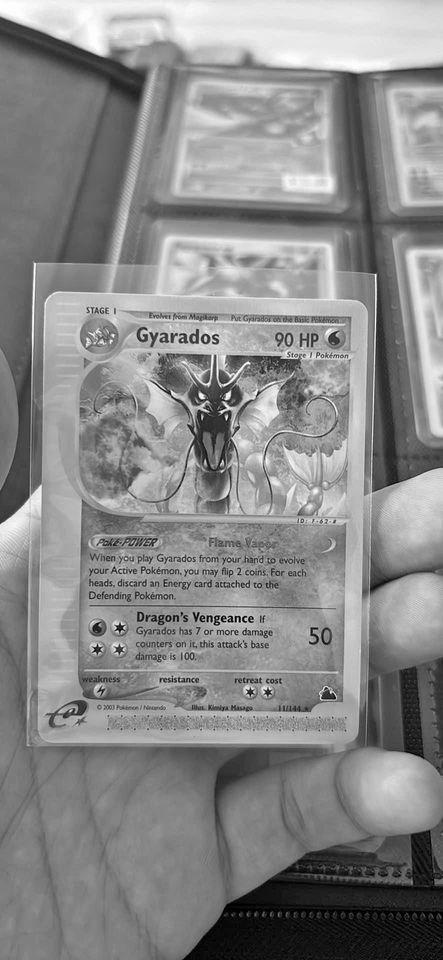card: (37, 291, 369, 745), (169, 80, 334, 206), (158, 239, 330, 299), (388, 85, 443, 207)
